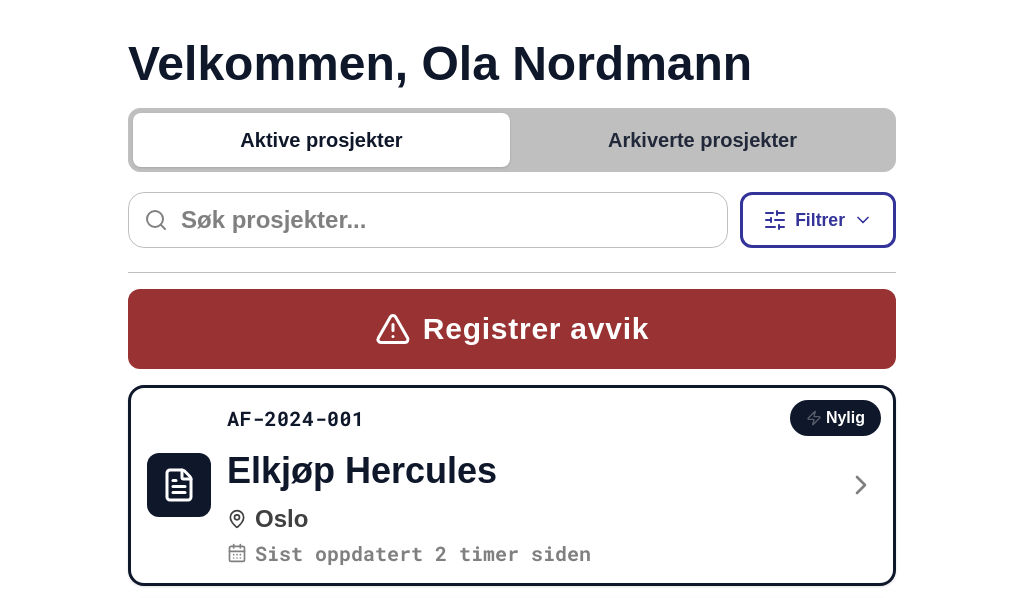
Test: ProjectsScreen › filters projects by search query
Expected: the heading "Elkjøp Hercules" is shown, [227,450,497,491]
In the field with placeholder "Søk prosjekter...": point(428, 220) [128,192,728,248], type "Bergen"
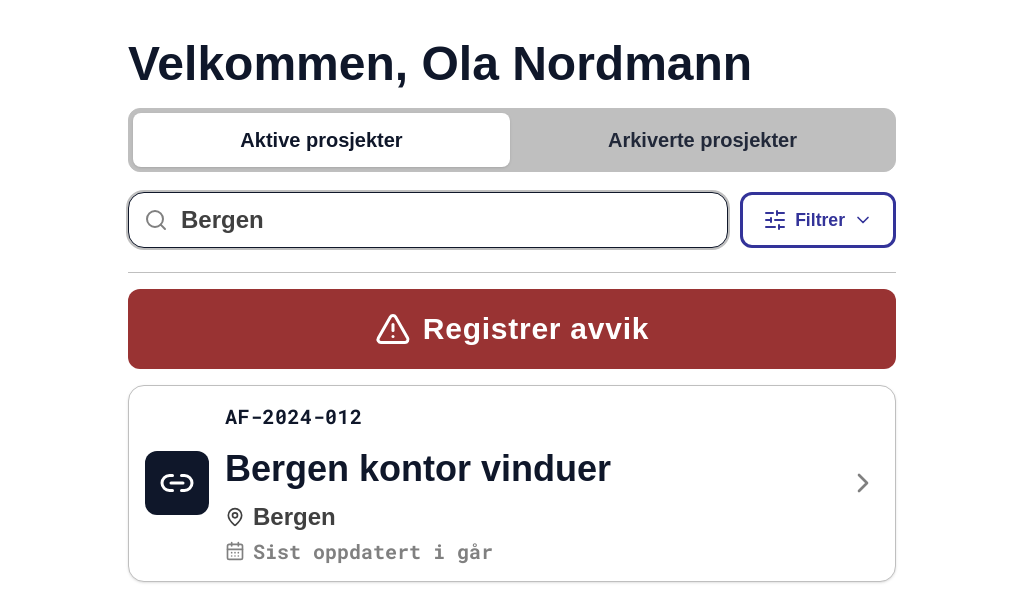
Expected: the heading "Bergen kontor vinduer" is shown, [225,448,611,489]
Expected: the button "Elkj.p Hercules" is gone
